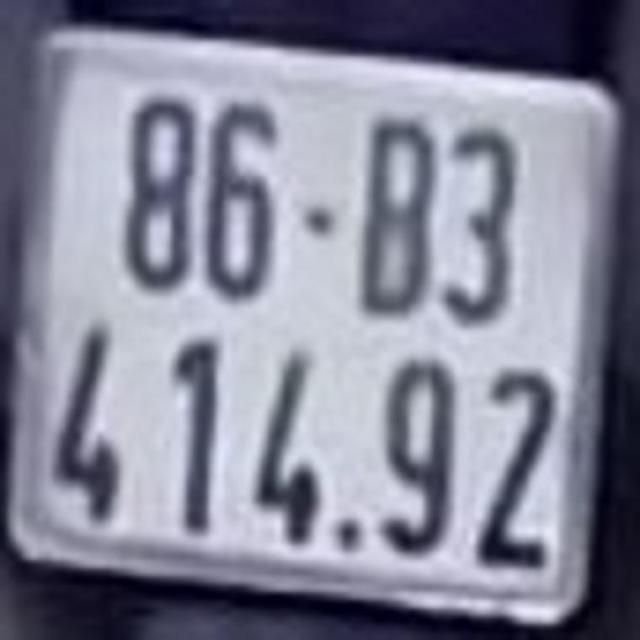1: (164, 330, 227, 535)
2: (477, 361, 558, 572)
3: (444, 112, 520, 328)
4: (50, 317, 129, 528), (250, 337, 328, 549)
6: (204, 94, 280, 300)
8: (125, 91, 196, 292)
9: (378, 347, 457, 558)
B: (353, 103, 438, 321)
